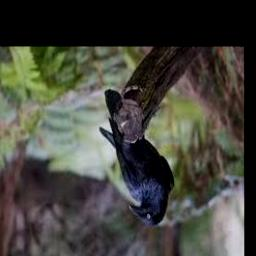Crow: (100, 118, 175, 226)
